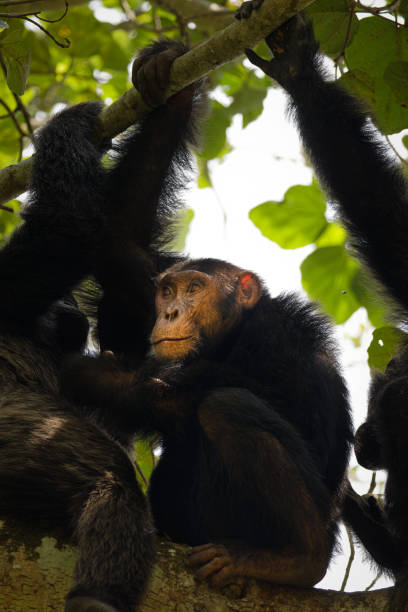chimpanzee: (139, 236, 272, 396)
